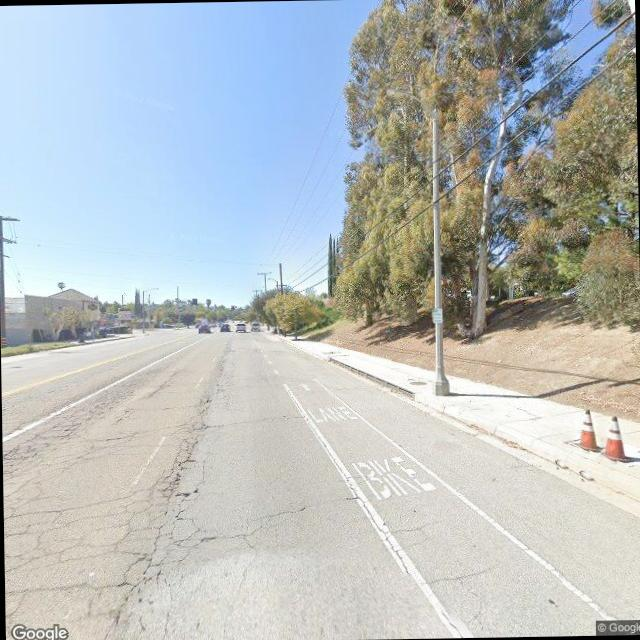crack: (1, 374, 280, 638), (210, 409, 306, 427)
